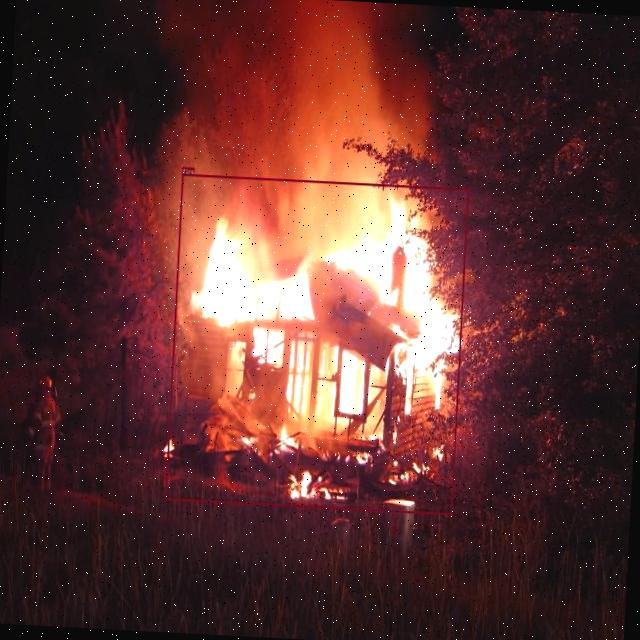fire: (164, 174, 468, 516)
